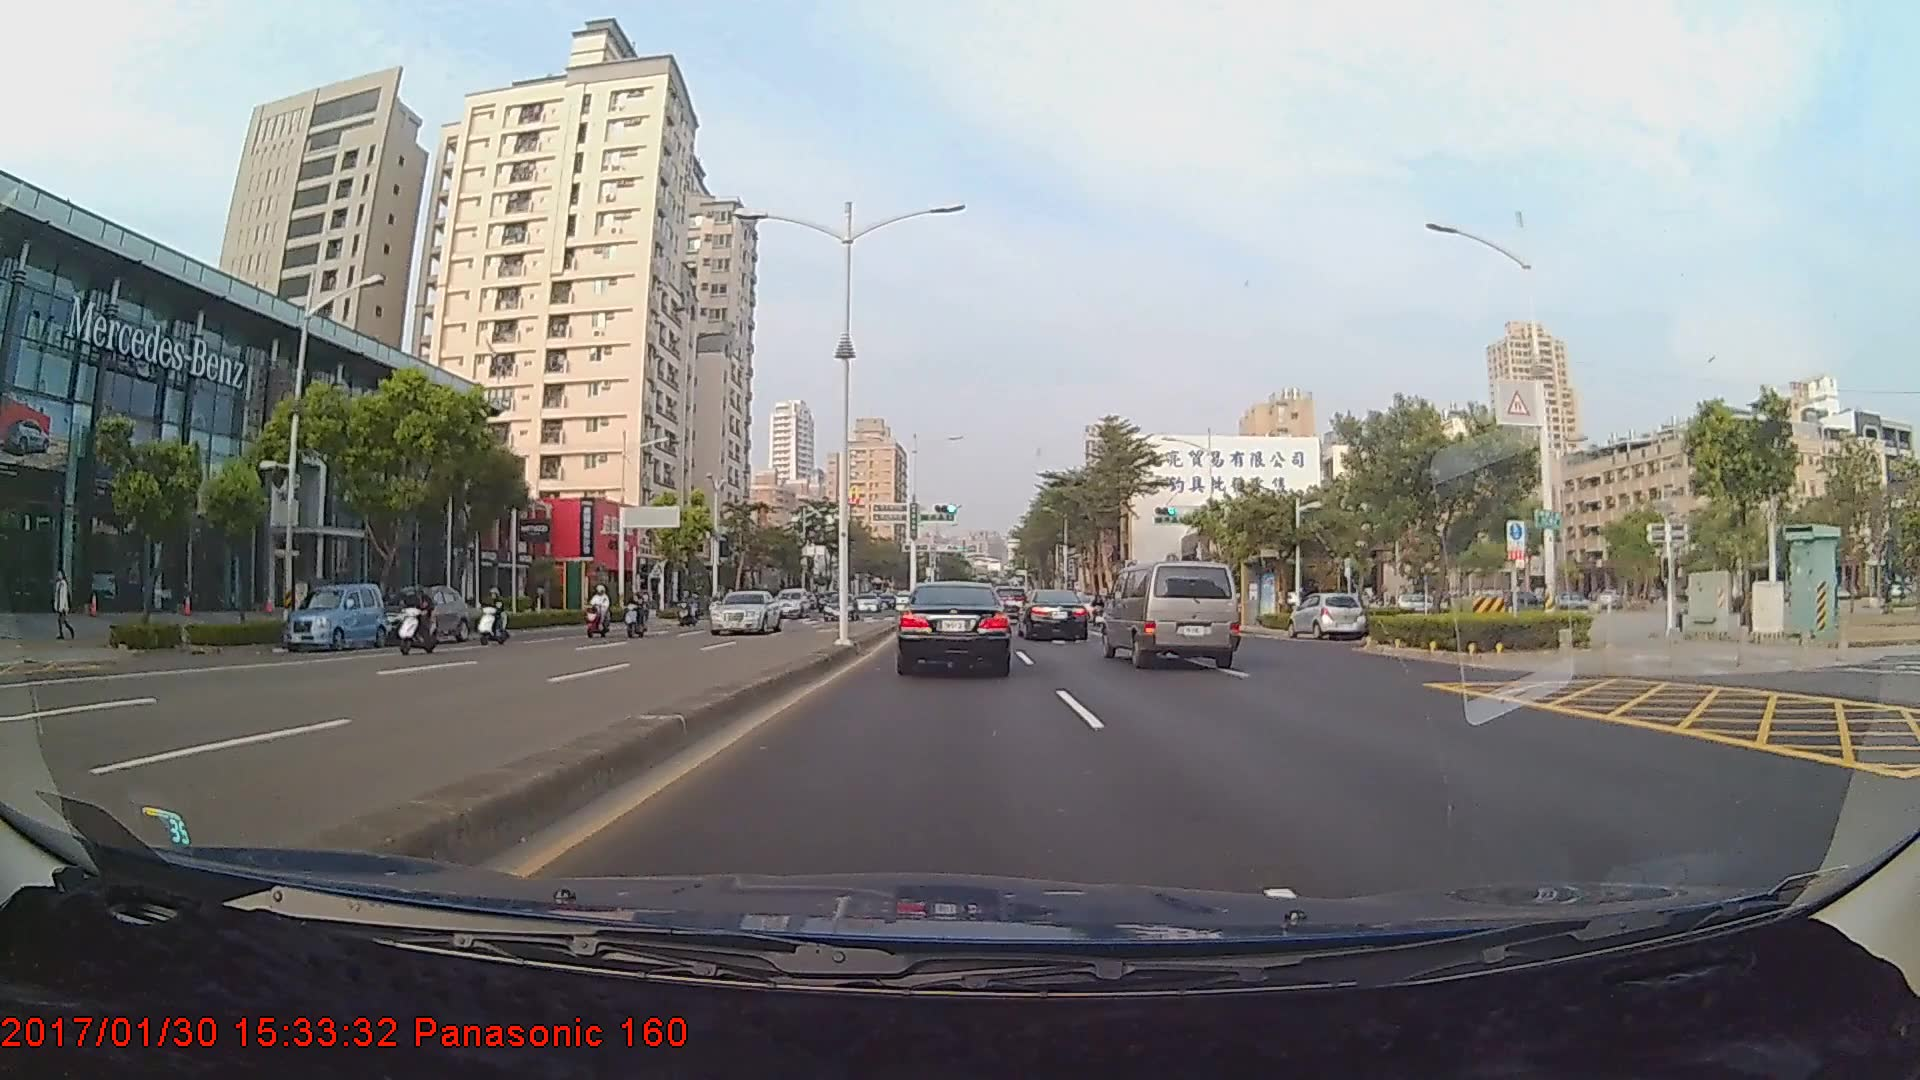pedestrian: (53, 572, 78, 641)
rider: (387, 582, 447, 662), (471, 584, 513, 650), (582, 580, 620, 639), (624, 586, 655, 641)
vehicle: (1101, 558, 1241, 670), (897, 580, 1012, 676), (280, 582, 390, 652), (372, 582, 470, 643), (1018, 588, 1090, 642), (1288, 593, 1366, 641), (707, 588, 779, 633)
